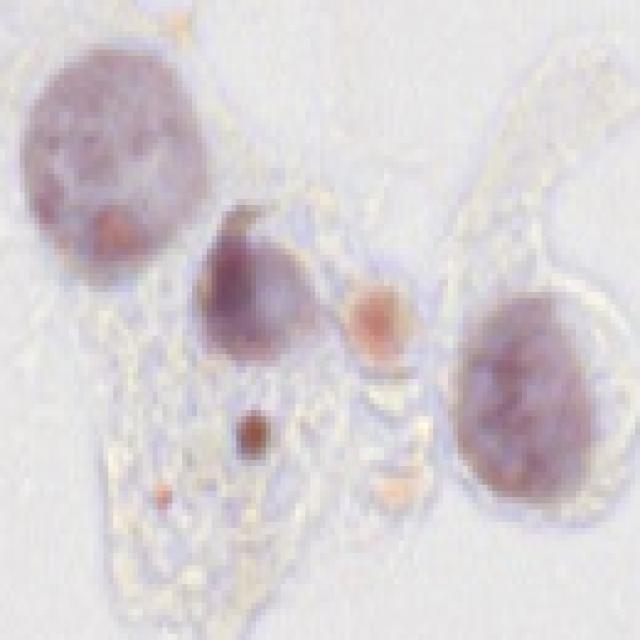cytoplasm: (416, 33, 639, 538)
nucleus: (404, 282, 637, 541)
